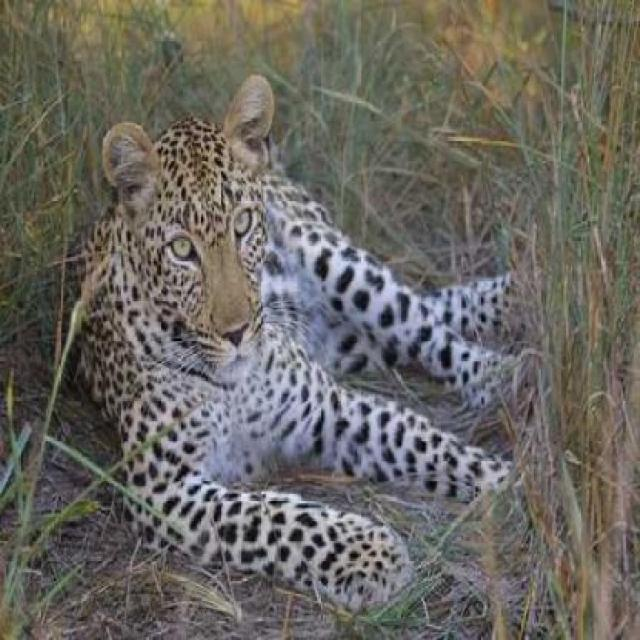Leopard: (108, 91, 470, 612)
